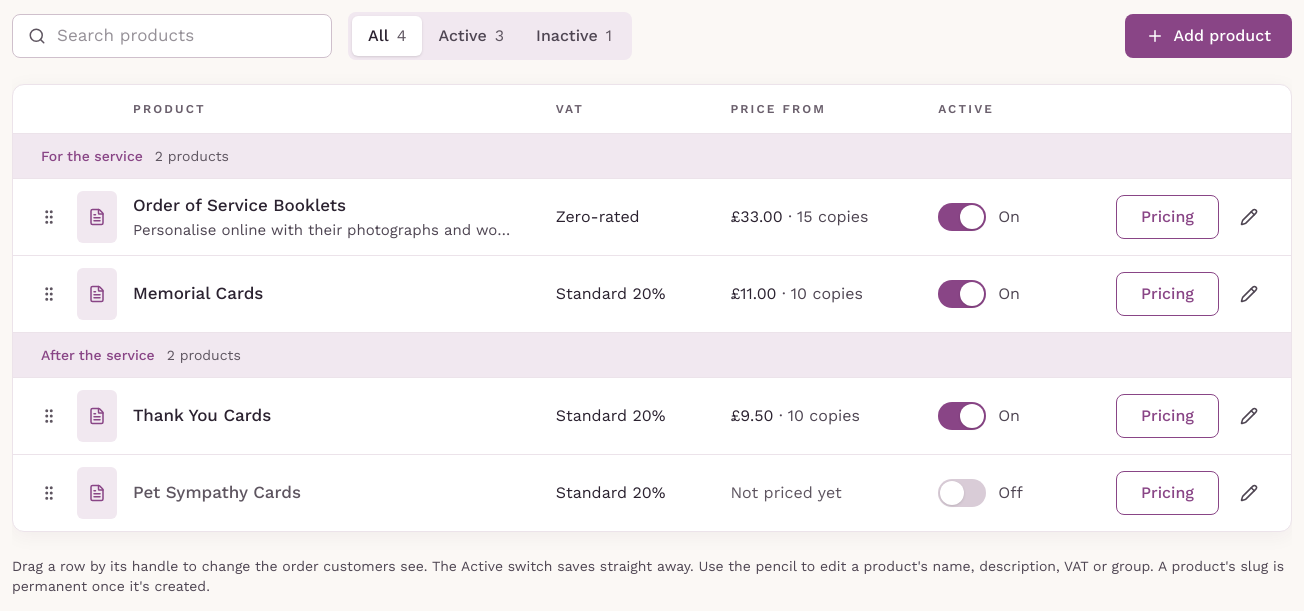
it: AdminProductsManager › searches and filters, and turns reordering off while it does
The width and height of the screenshot is (1304, 611).
Step 1. Type "cards" into the search field labelled "Search products" → (172, 36), box [12,14,332,58]
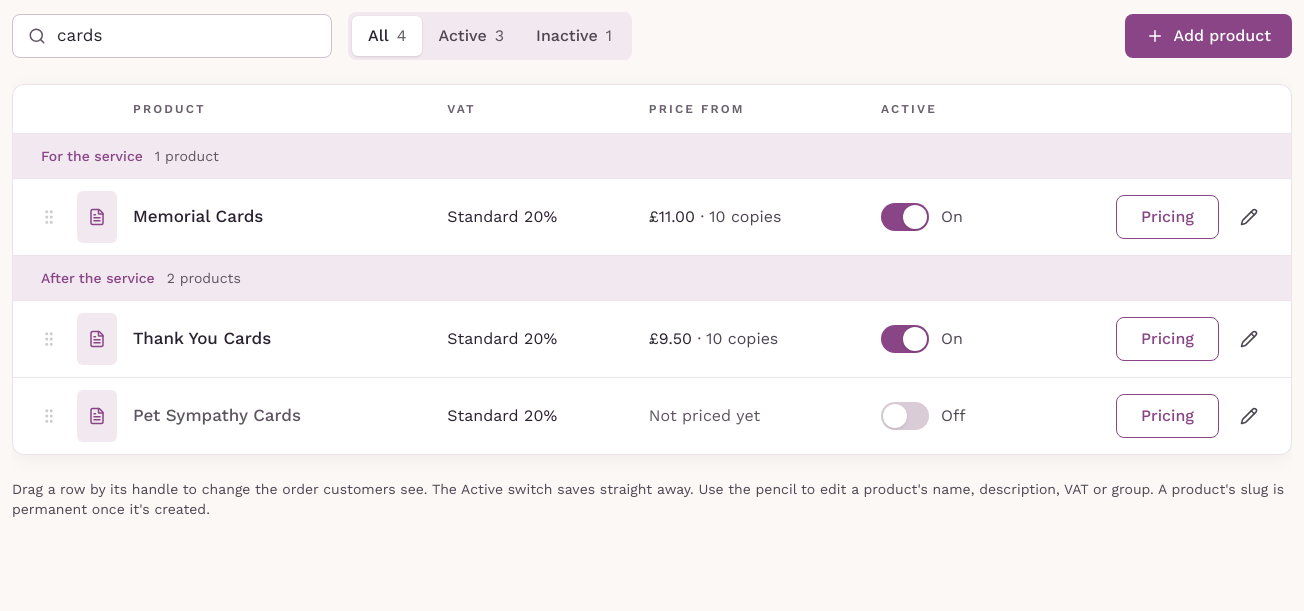
Expected: the text "Memorial Cards" is shown, [133,204,263,230]
Expected: the text "Order of Service Booklets" is gone
Expected: the button named "Move Memorial Cards" is disabled, [33,195,65,239]
Step 2. Clear the search field named "Search products" → (172, 36), box [12,14,332,58]
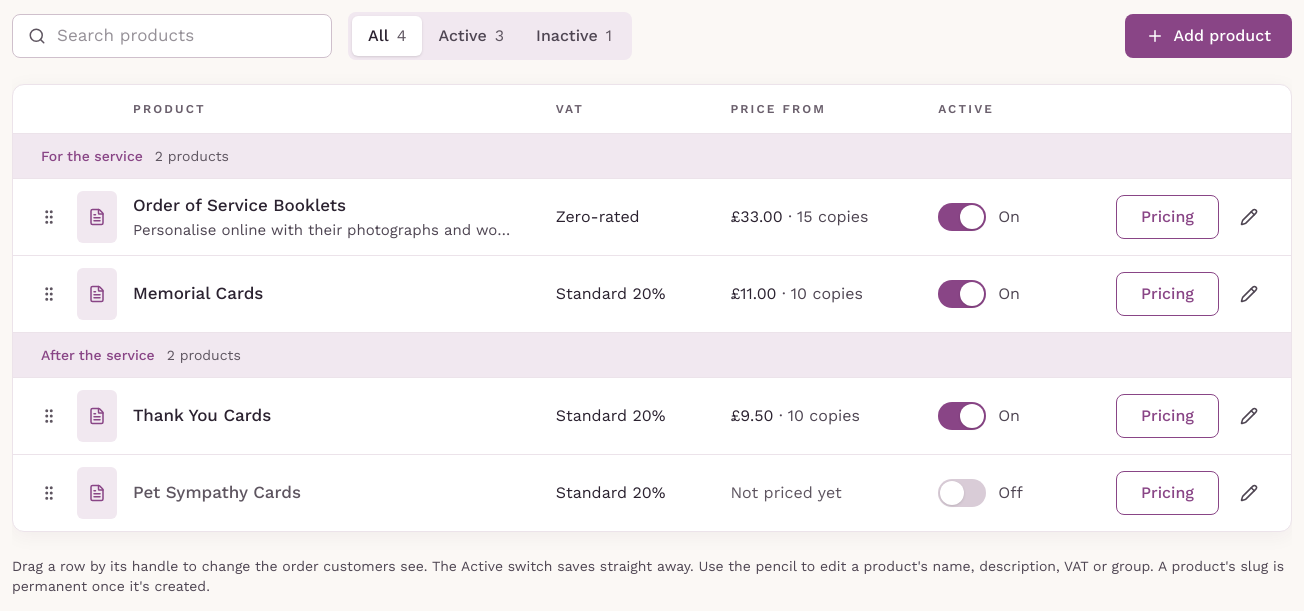
Step 3. Click the button "Inactive1" → click(574, 36), box [520,16,628,56]
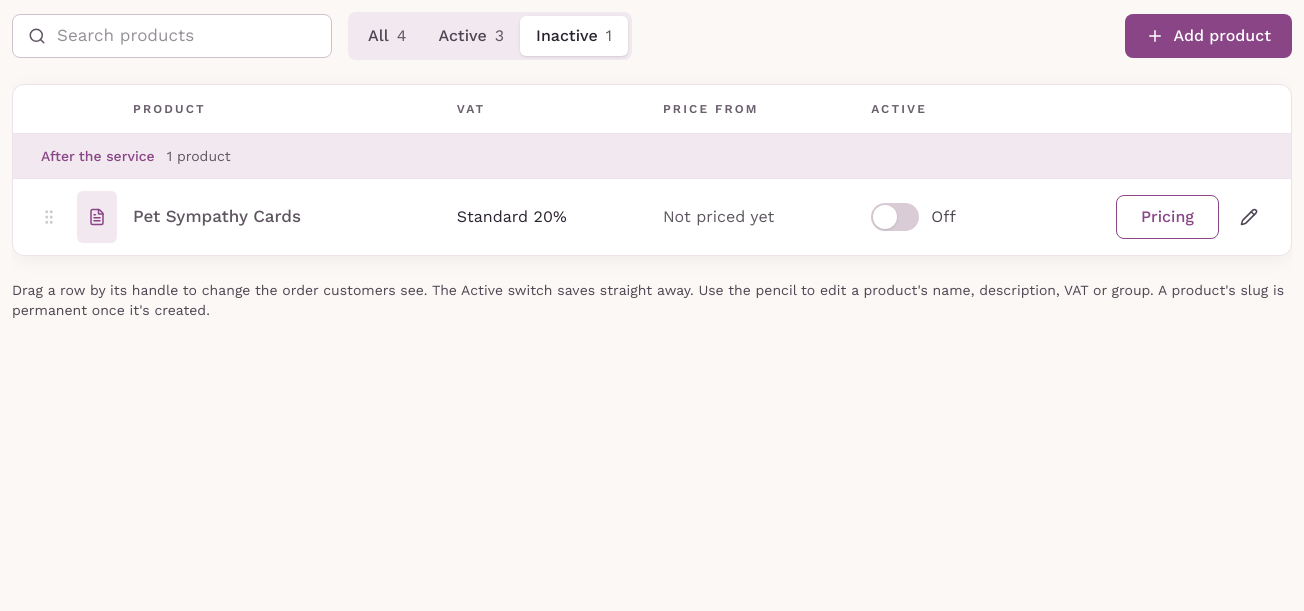
Expected: the text "Pet Sympathy Cards" is shown, [133,204,301,230]
Expected: the text "Memorial Cards" is gone
